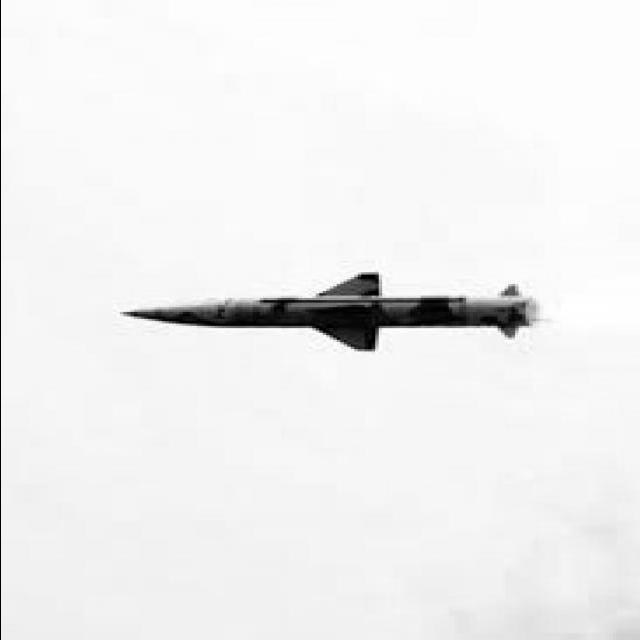Missile: (110, 269, 547, 352)
